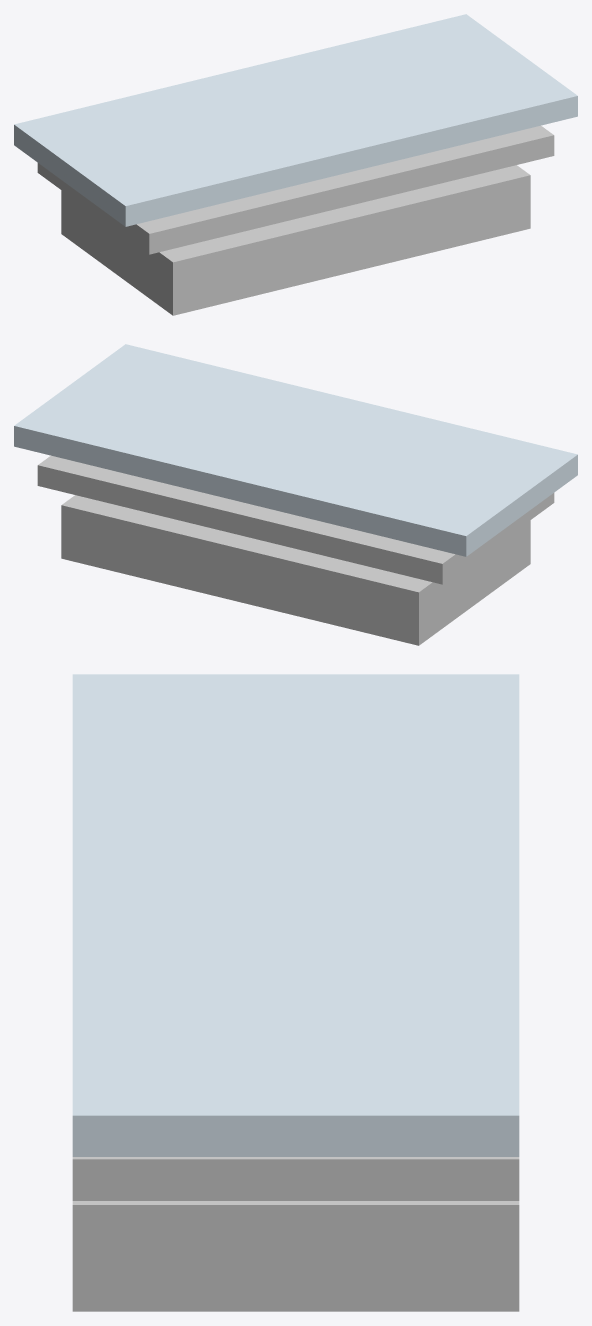
Rendered from Table.fbx.
3 views of the same model, one above another, from view 1: azimuth 30°, elevation 25°; view 2: azimuth 150°, elevation 25°; view 3: azimuth 270°, elevation 25° (orthographic). The views are drawn at different scales.
Parts seen in each view (by area): view 1: Cube, Cube.003, Cube.001; view 2: Cube, Cube.003, Cube.001; view 3: Cube, Cube.003, Cube.001.
Part boxes in pixels (<box>): Cube: <box>14,14,577,226</box>; Cube.003: <box>61,165,530,315</box>; Cube.001: <box>37,125,554,254</box>; Cube: <box>14,344,577,556</box>; Cube.003: <box>61,495,530,645</box>; Cube.001: <box>37,455,554,584</box>; Cube: <box>72,674,519,1156</box>; Cube.003: <box>72,1201,519,1311</box>; Cube.001: <box>72,1157,519,1200</box>.
Size of the model in its own units: 468 by 120 by 200.
